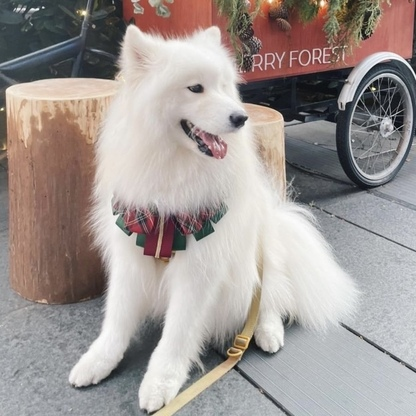samoyed: (66, 18, 366, 416)
